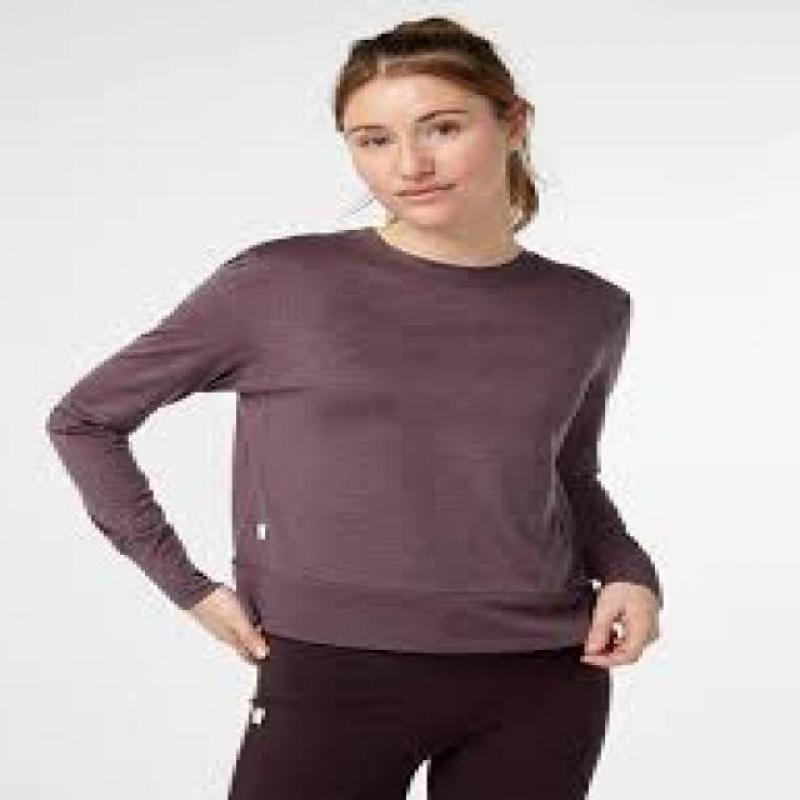sweater: (43, 224, 667, 652)
trousers: (221, 628, 615, 800)
